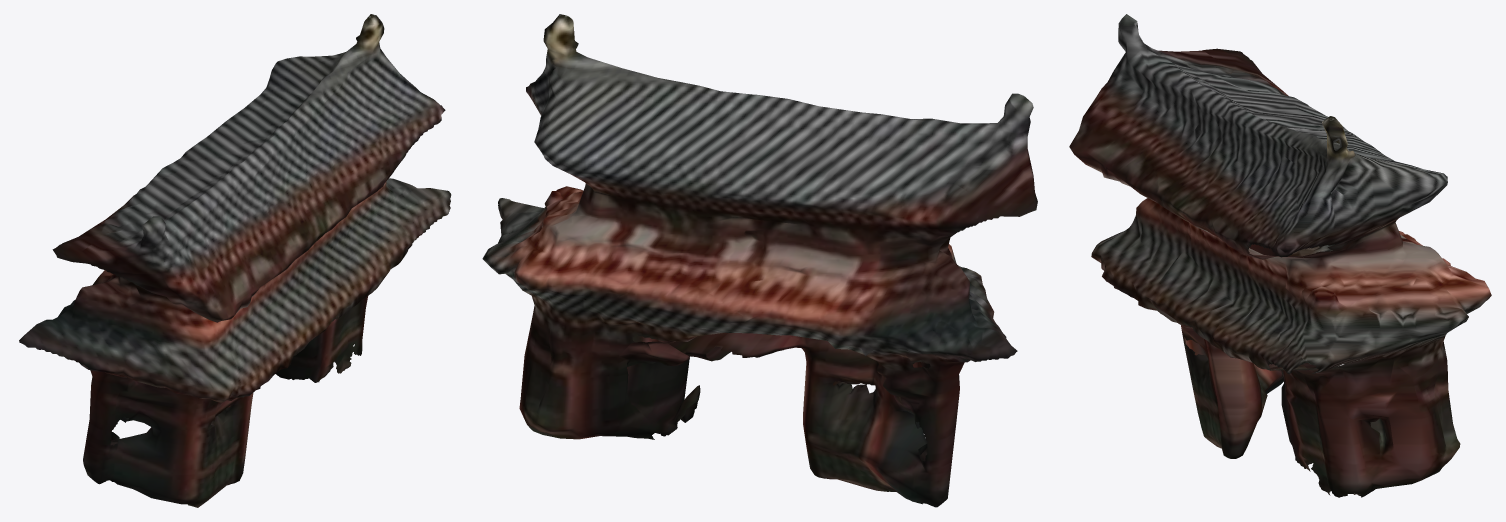
Rendered from templegate.glb.
The picture shows the model from 3 angles, left to right: view 1: azimuth 30°, elevation 25°; view 2: azimuth 150°, elevation 25°; view 3: azimuth 270°, elevation 25°; orthographic projection. The views are drawn at different scales.
Parts seen in each view (by area): view 1: geometry_0; view 2: geometry_0; view 3: geometry_0.
Part boxes in pixels (x1=…): geometry_0: x1=19, y1=14, x2=451, y2=507; geometry_0: x1=482, y1=14, x2=1037, y2=507; geometry_0: x1=1069, y1=14, x2=1491, y2=497.
Bounding box in the file's own units: 0.8823 × 0.7465 × 0.6364.
1 material, 1 textured.
